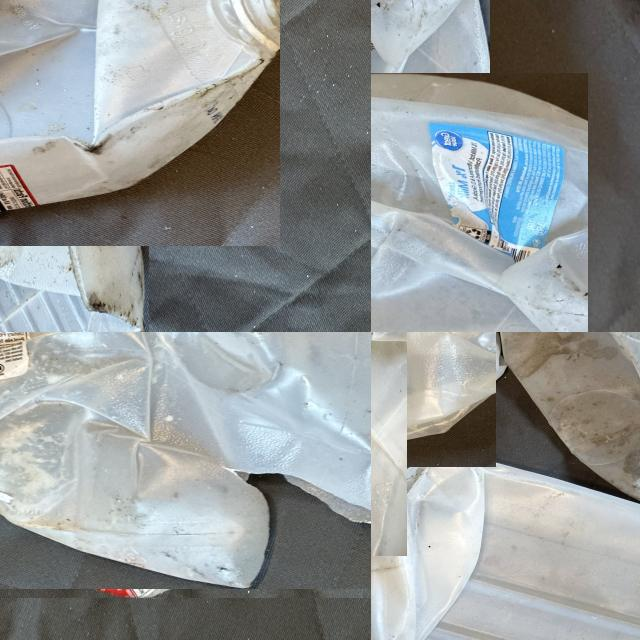milk-jug: (0, 332, 371, 593), (0, 0, 214, 312), (371, 24, 539, 332), (371, 460, 640, 640), (504, 332, 640, 536)
